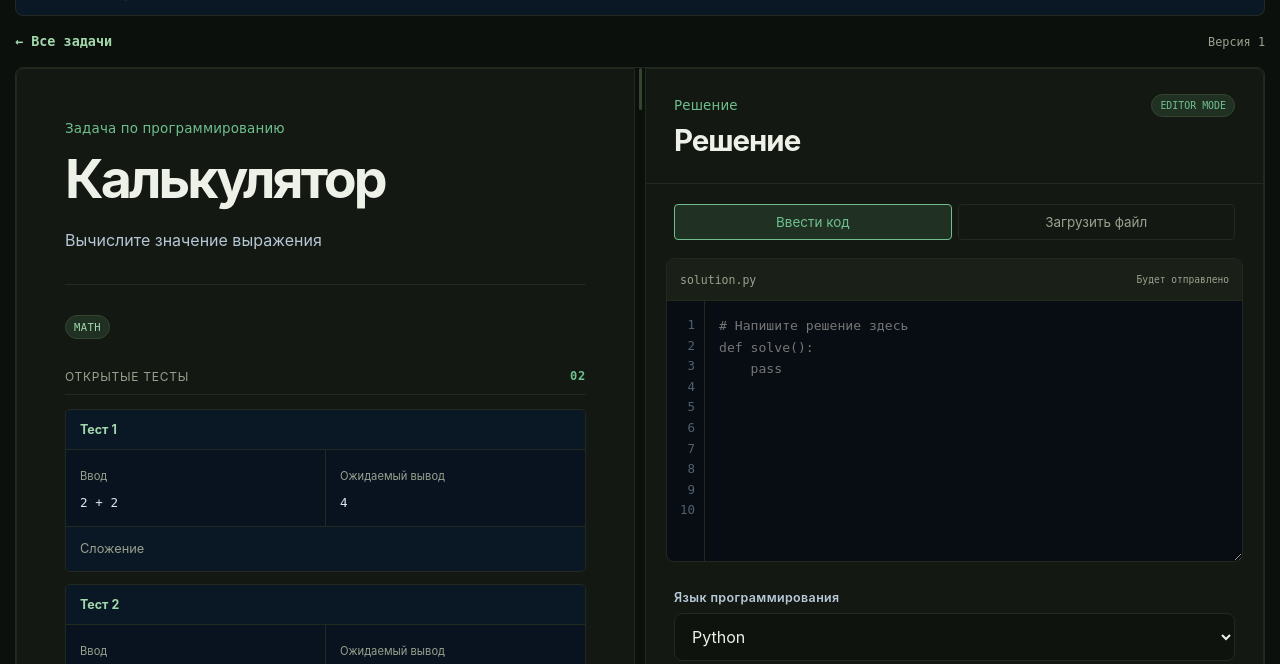
код из консоли отправляется как sourceCode
The width and height of the screenshot is (1280, 664).
Check: the heading "Калькулятор" is shown, box x1=65 y1=146 x2=385 y2=211
Type "print(input())" into the text box named "Код решения" at (974, 431), box x1=705 y1=301 x2=1242 y2=561
(page scrolled)
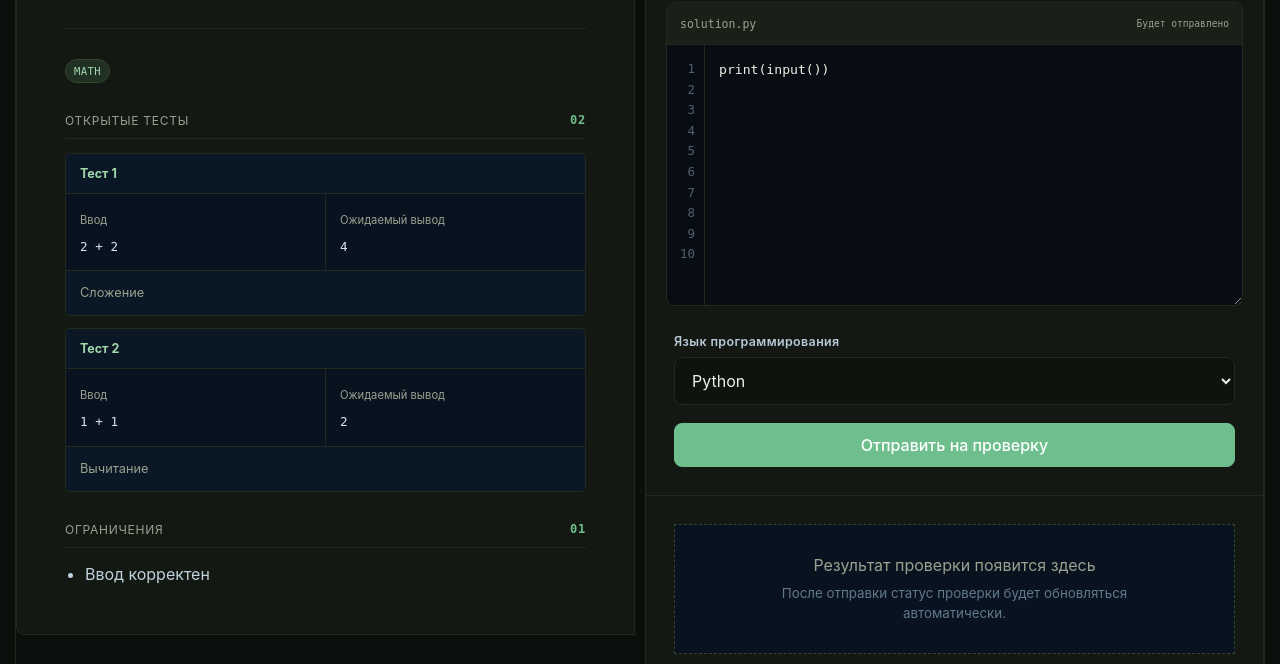
Click the button "Отправить на проверку" at (954, 445), box x1=674 y1=423 x2=1235 y2=467
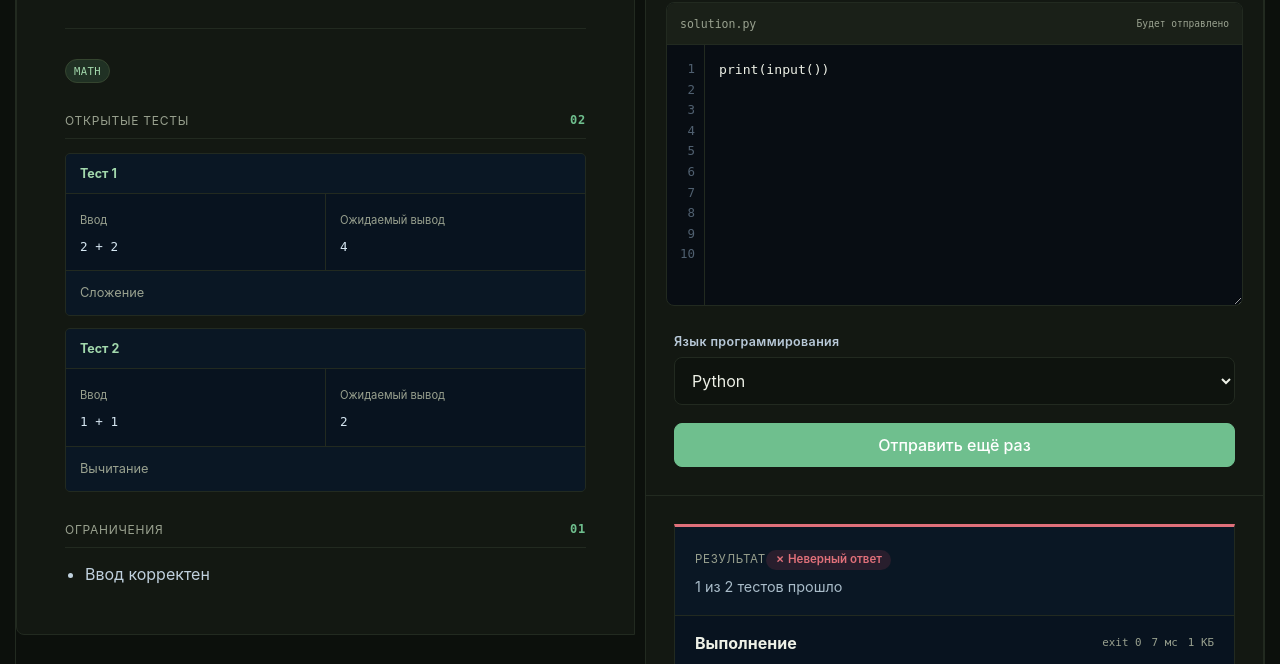
Check: the text "1 из 2 тестов прошло" is shown, box x1=695 y1=578 x2=842 y2=595
